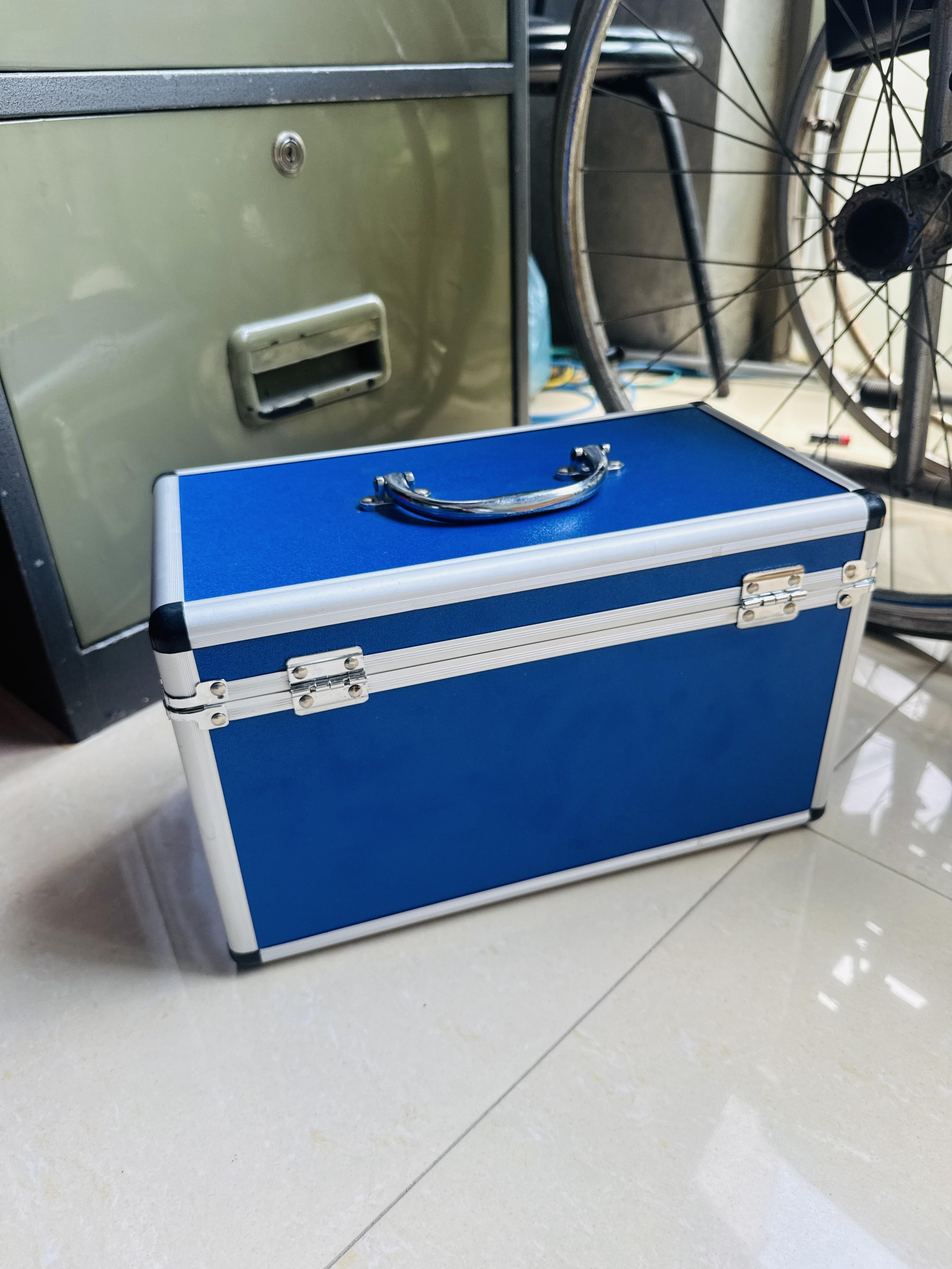FirstAidBox: (124, 388, 906, 985)
